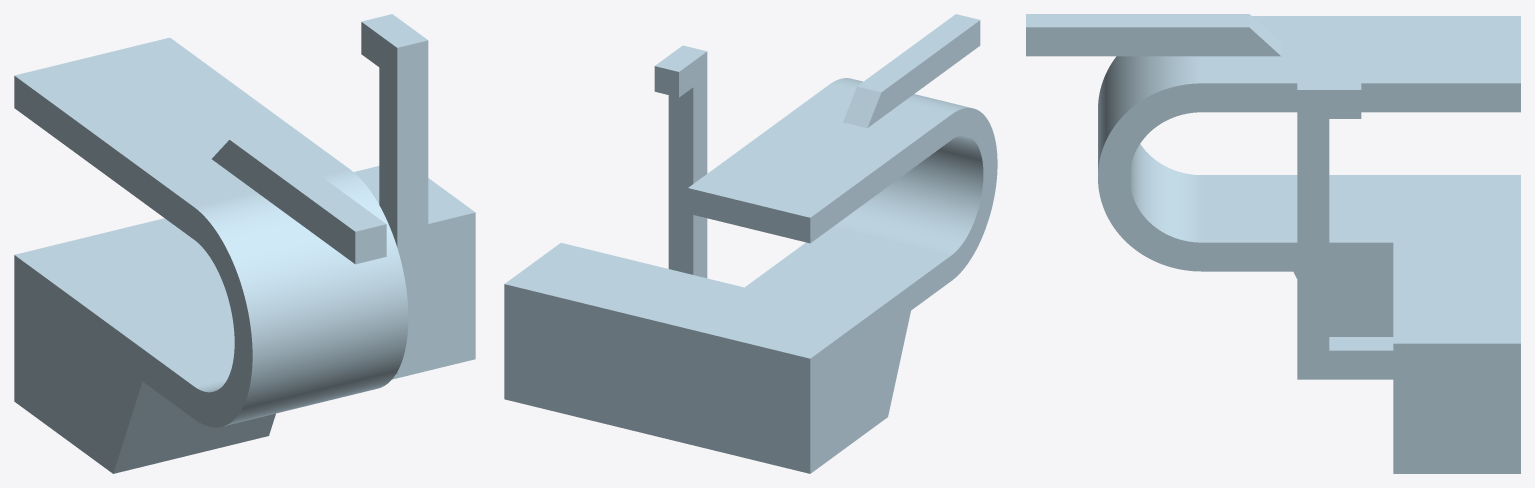
Rendered from Scanner.gltf.
The picture shows the model from 3 angles, left to right: view 1: azimuth 30°, elevation 25°; view 2: azimuth 150°, elevation 25°; view 3: azimuth 270°, elevation 25°; orthographic projection. The views are drawn at different scales.
Parts seen in each view (by area): view 1: Part 1; view 2: Part 1; view 3: Part 1.
Part boxes in pixels (<box>): Part 1: <box>14,14,475,473</box>; Part 1: <box>504,14,997,473</box>; Part 1: <box>1026,14,1520,473</box>.
Size of the model in its own units: 0.125 by 0.1175 by 0.155.
